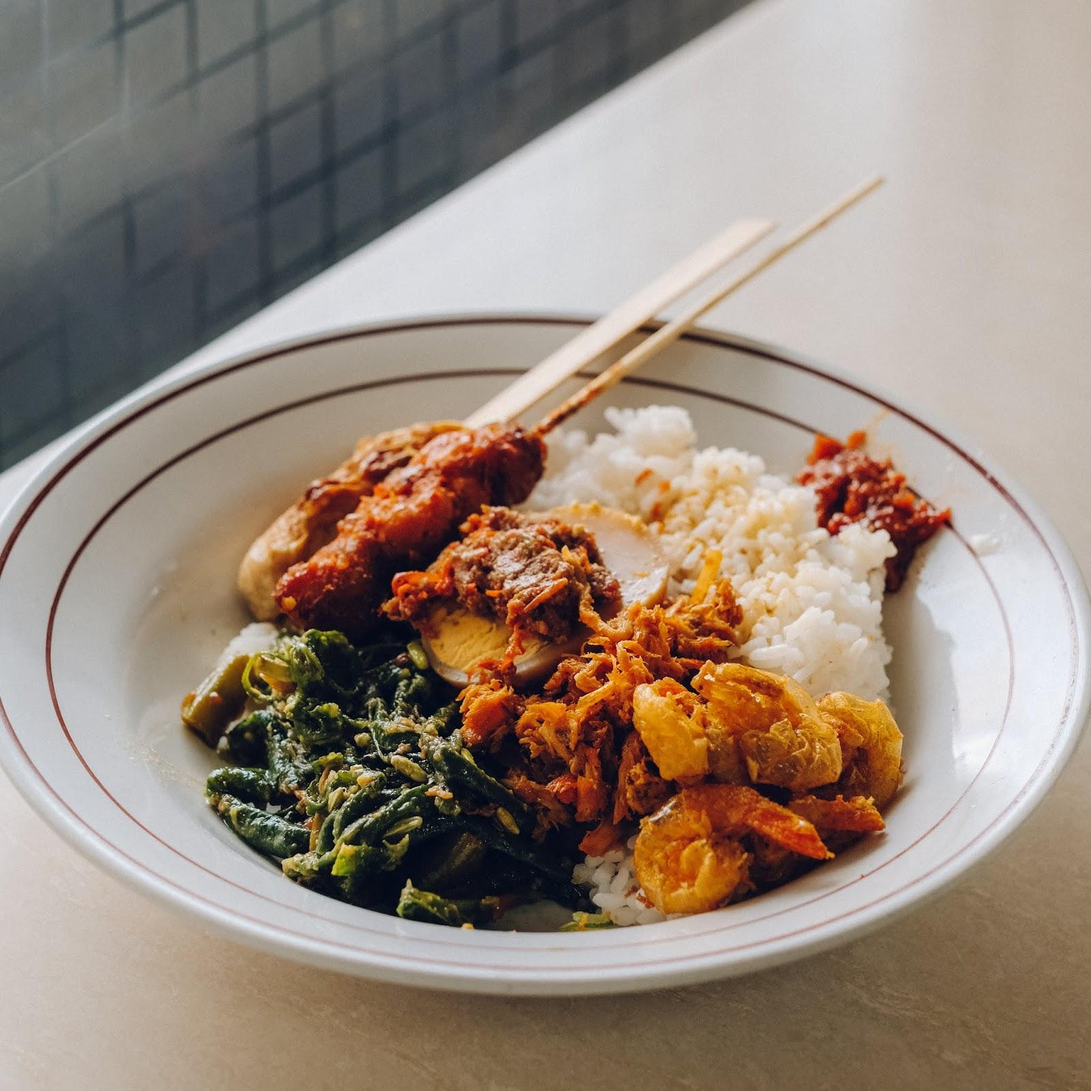buah_sayur_lainnya: (247, 729, 444, 850)
daging: (654, 709, 863, 889), (303, 474, 441, 568)
makanan_berpati: (629, 463, 797, 563)
